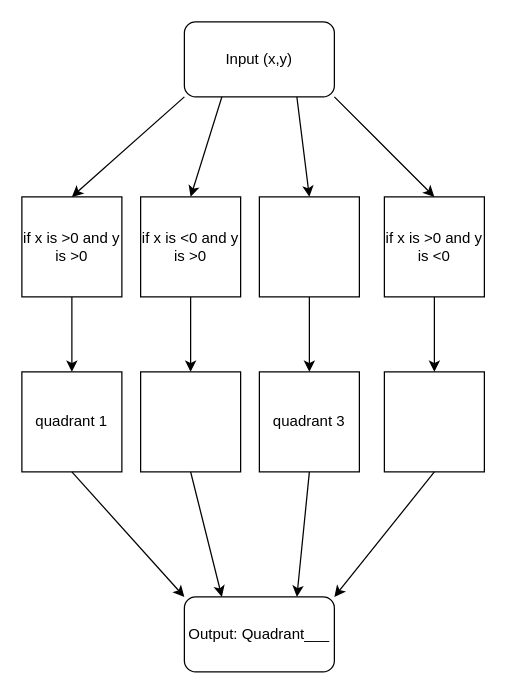
The diagram is 506 pixels wide and 694 high, and some of its shapes have lost their labels. The shapes that lost their labels are listed below. From the top down, each one's centre as x and y in pixels, then its label:
[308,246]: if x is <0 and y is<0
[190,421]: quadrant 2
[433,421]: quadrant 4
